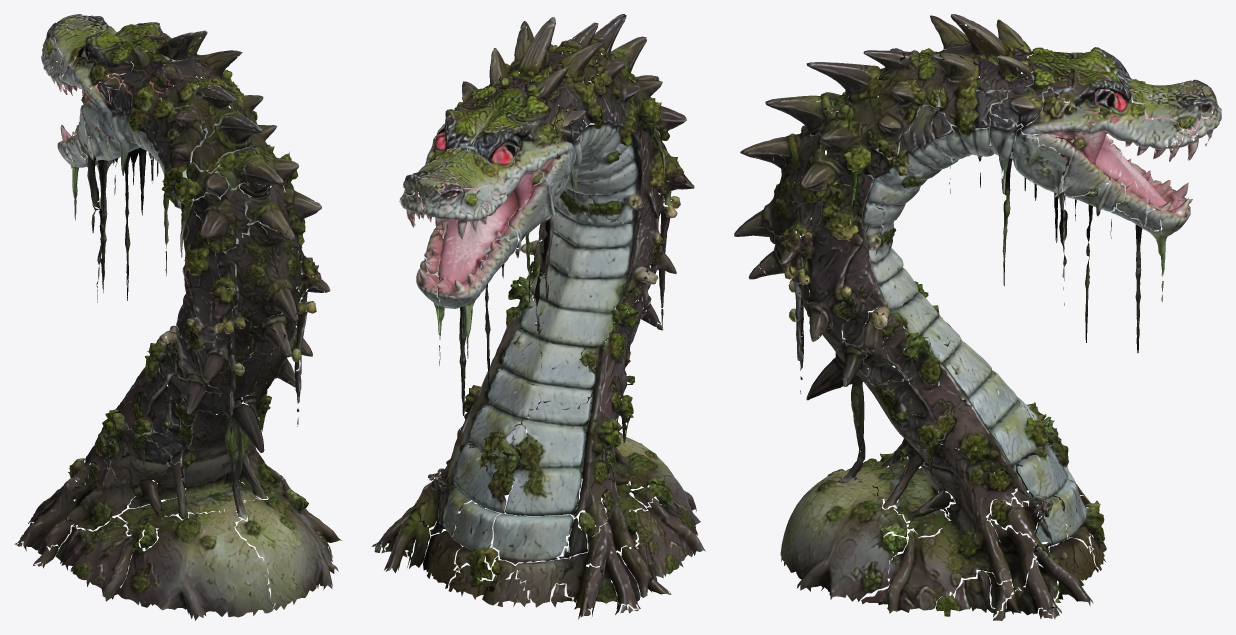
The model's file is leviathan_model.glb.
3 renders of one model, left to right at view 1: azimuth 30°, elevation 25°; view 2: azimuth 150°, elevation 25°; view 3: azimuth 270°, elevation 25°, orthographic. The views are drawn at different scales.
Visible parts, largest first — view 1: leviatan; view 2: leviatan; view 3: leviatan.
Part boxes in pixels (x1,y1,x2,y2): leviatan: [14, 14, 341, 620]; leviatan: [371, 14, 705, 619]; leviatan: [734, 14, 1221, 620].
Size of the model in its own units: 4.27 by 7.79 by 6.35.
Materials: 1 (1 with a texture image).
